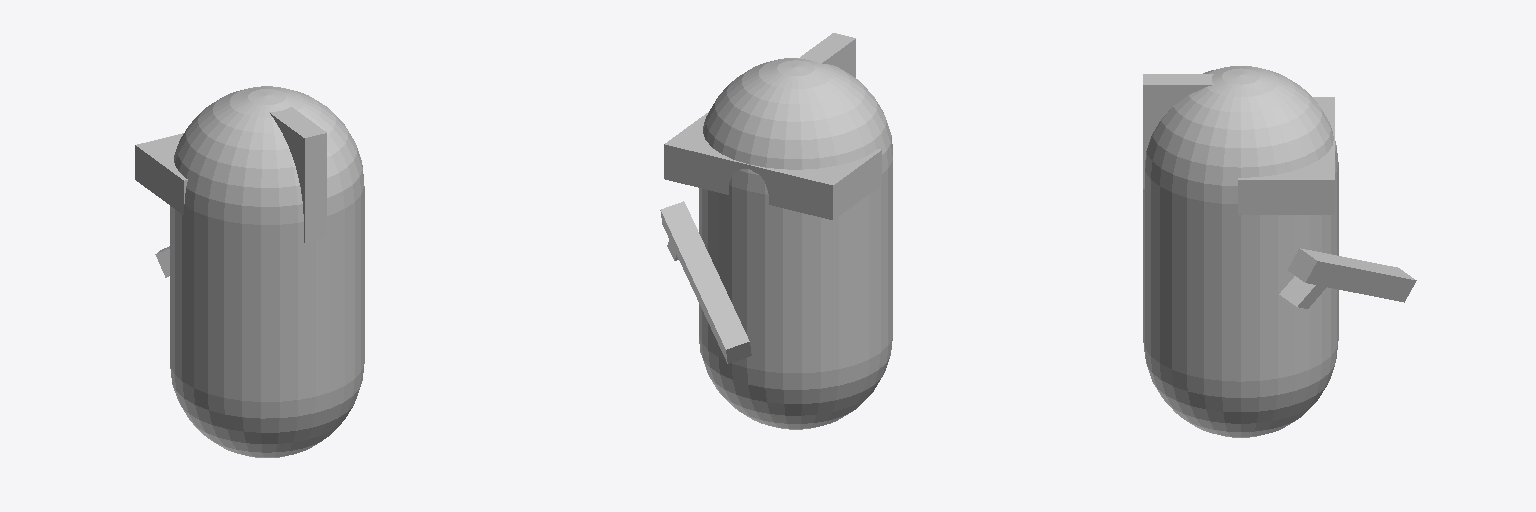
Rendered from cool-dude.obj.
3 views of the same model, side by side, from view 1: azimuth 30°, elevation 25°; view 2: azimuth 150°, elevation 25°; view 3: azimuth 270°, elevation 25° (orthographic).
Parts seen in each view (by area): view 1: capsule; view 2: capsule; view 3: capsule.
Boxes of the visible parts, x1=… form: capsule: x1=135, y1=86, x2=364, y2=457; capsule: x1=660, y1=33, x2=892, y2=429; capsule: x1=1143, y1=66, x2=1416, y2=437.
Bounding box in the file's own units: 2.2 × 4 × 2.8.